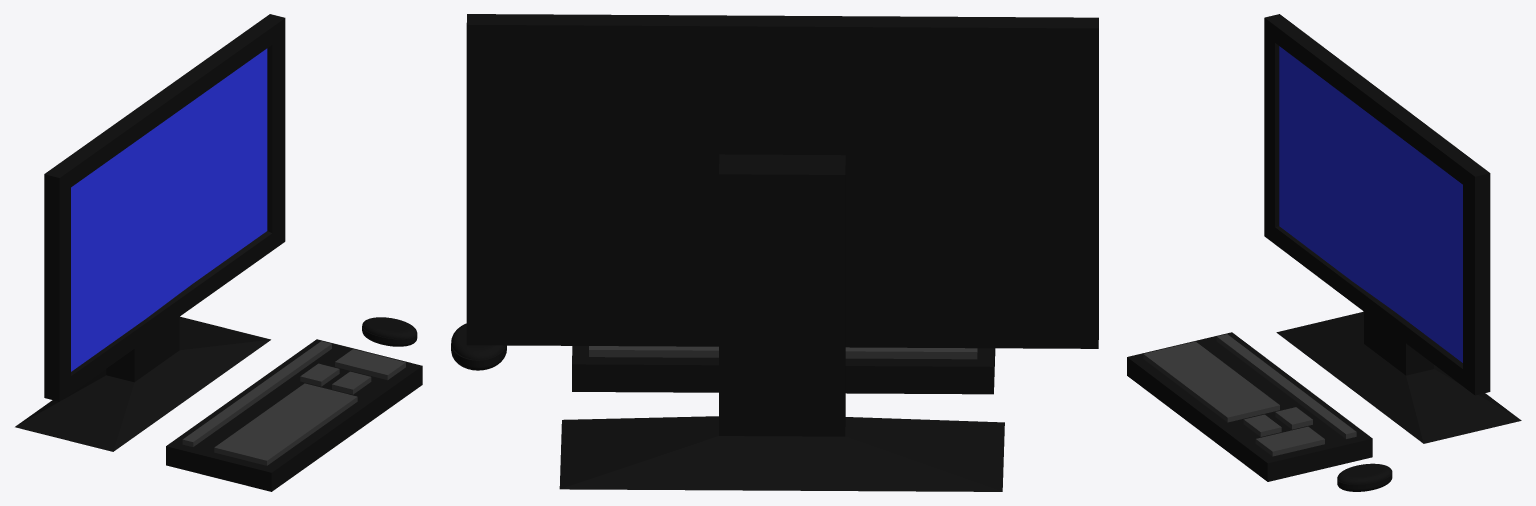
File: Computer.fbx
3 views of the same model, side by side, from view 1: azimuth 30°, elevation 25°; view 2: azimuth 150°, elevation 25°; view 3: azimuth 270°, elevation 25° (orthographic). The views are drawn at different scales.
Visible parts, largest first — view 1: Box002, Box003, ChamferCyl001; view 2: Box002, Box003, ChamferCyl001; view 3: Box002, Box003, ChamferCyl001.
Part boxes in pixels (x1,y1,x2,y2): Box002: [15, 14, 285, 451]; Box003: [166, 339, 422, 491]; ChamferCyl001: [362, 317, 417, 346]; Box002: [466, 14, 1098, 491]; Box003: [572, 346, 995, 394]; ChamferCyl001: [451, 323, 506, 370]; Box002: [1264, 14, 1521, 443]; Box003: [1127, 332, 1372, 481]; ChamferCyl001: [1337, 463, 1392, 491].
Size of the model in its own units: 17.71 by 12.31 by 15.17.
